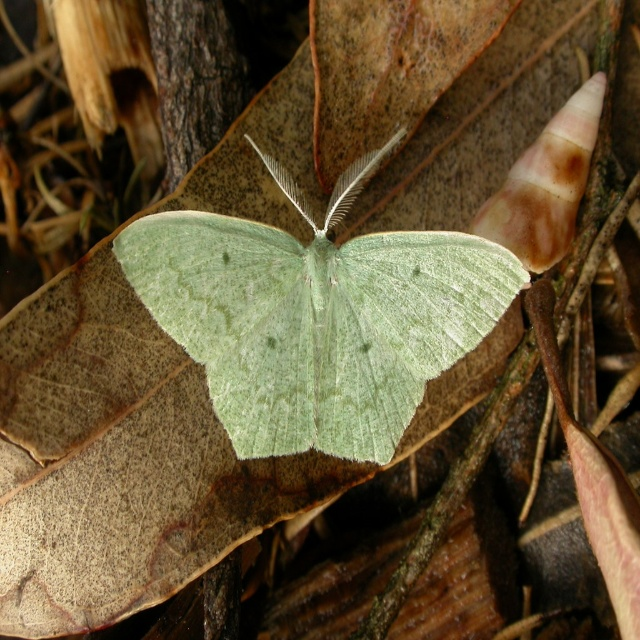Moths and butterflies: (111, 131, 532, 468)
